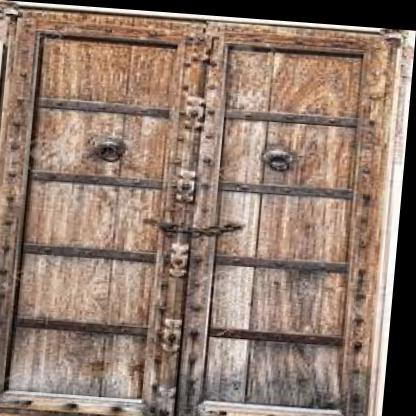door: (0, 17, 389, 415)
